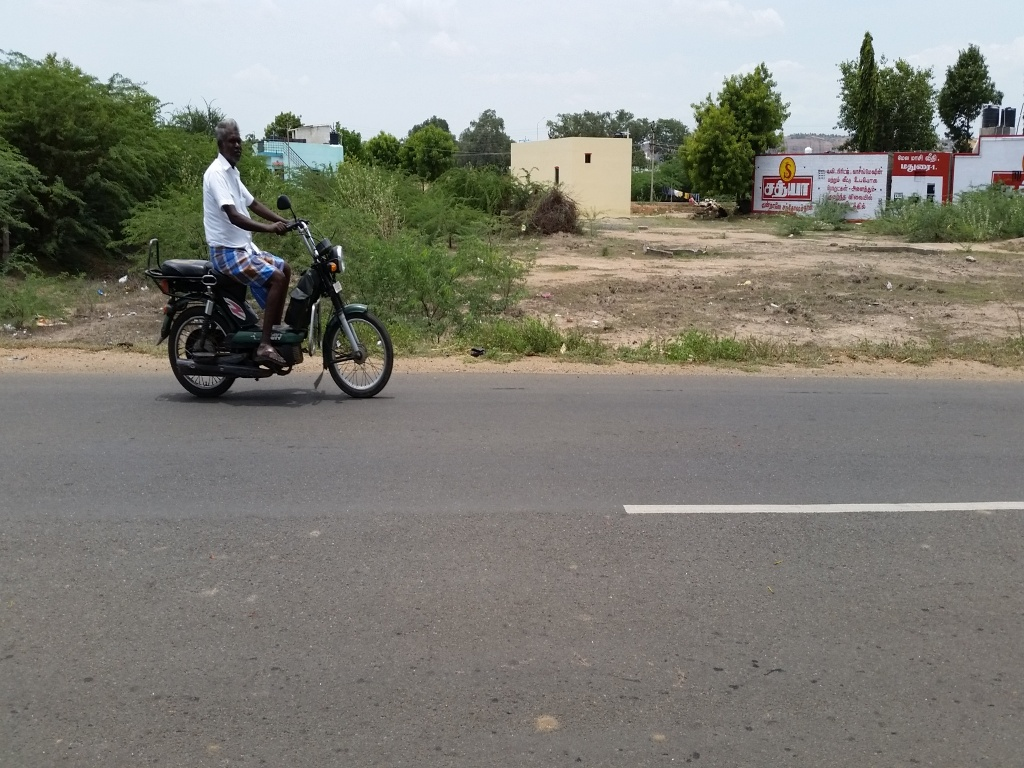biker: (132, 86, 412, 421)
nohelmet: (207, 107, 253, 180)
